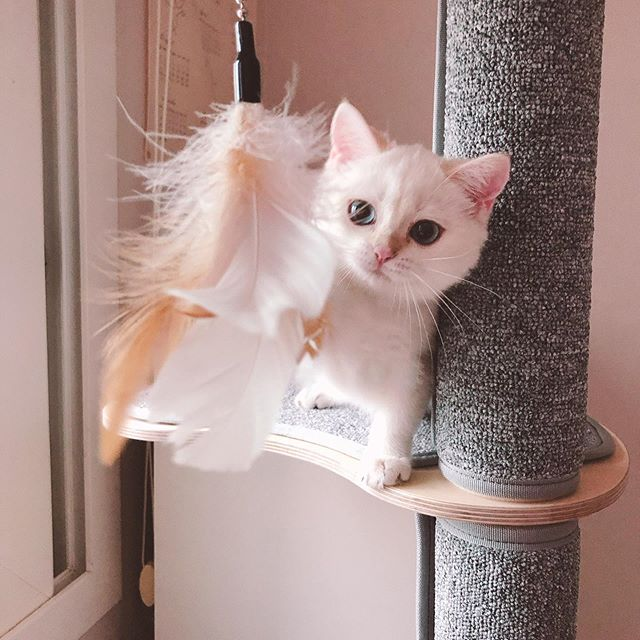cat: (314, 96, 510, 305)
